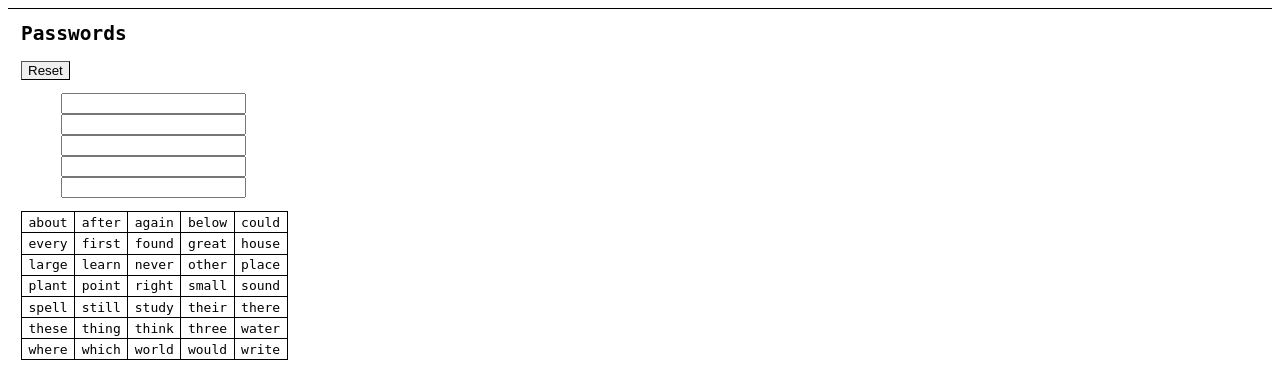
PasswordsModule › resets all inputs when reset button is clicked
The width and height of the screenshot is (1280, 377).
In the field named "Column 1 letters": [154, 104] box [61,93,246,114], type "abc"
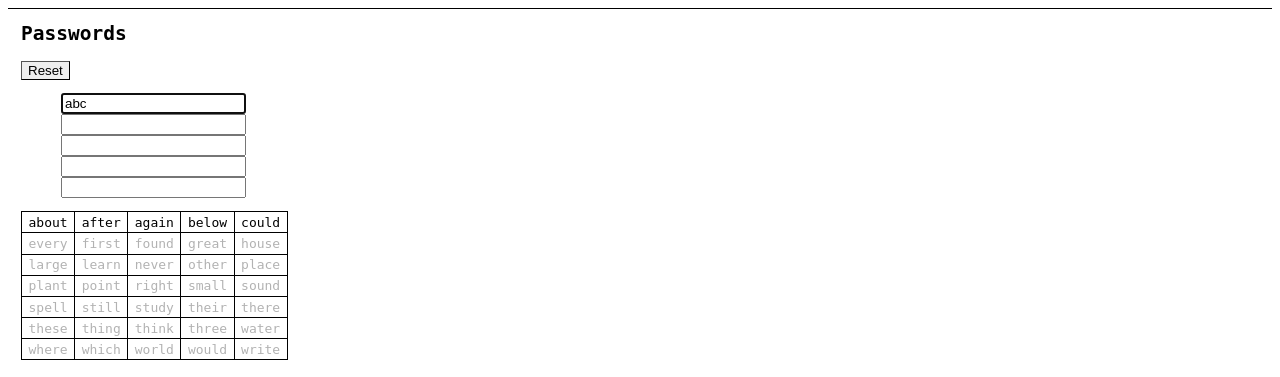
Click the button "Reset": [45, 71] box [21,61,70,80]
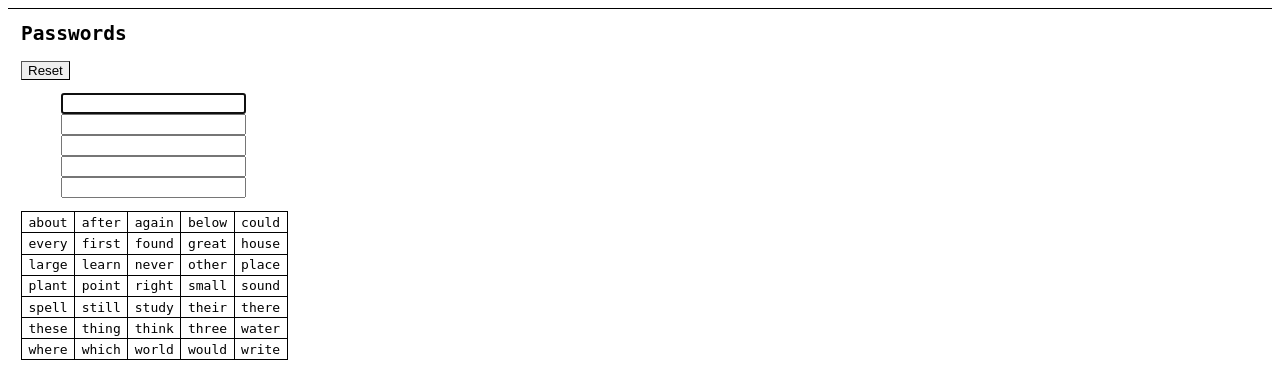
Expected: the field named "Column 1 letters" is empty, [61,93,246,114]
